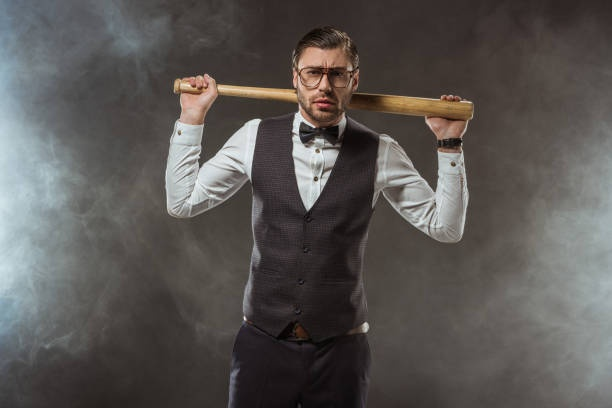bita: (171, 75, 479, 126)
